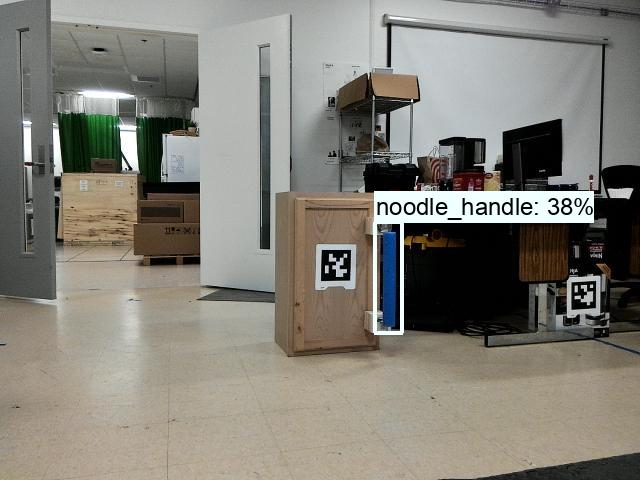noodle_handle: (374, 225, 403, 333)
